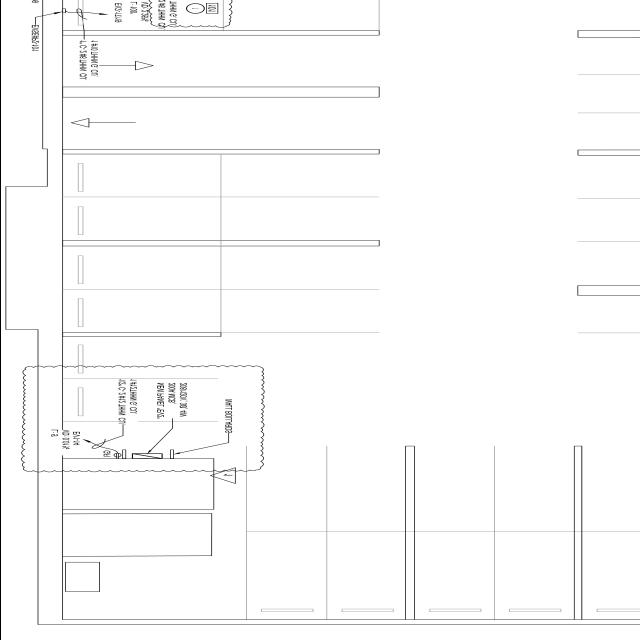gfi: (112, 452, 122, 458)
panel: (128, 451, 166, 463)
